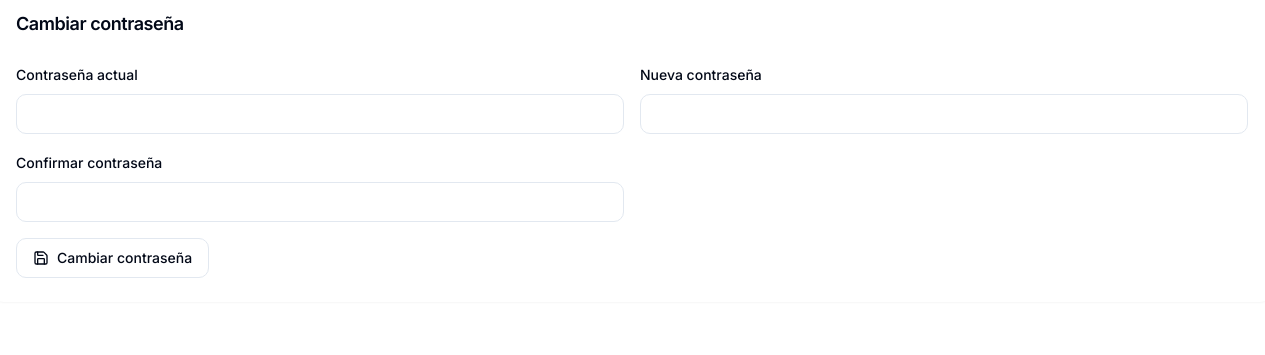
CambiarContrasena › cambia la contraseña y vacía el formulario
Type "Vieja2026!" into the password field labelled "Contraseña actual".
click(320, 114); type("Vieja2026!")  # box [16,94,624,134]
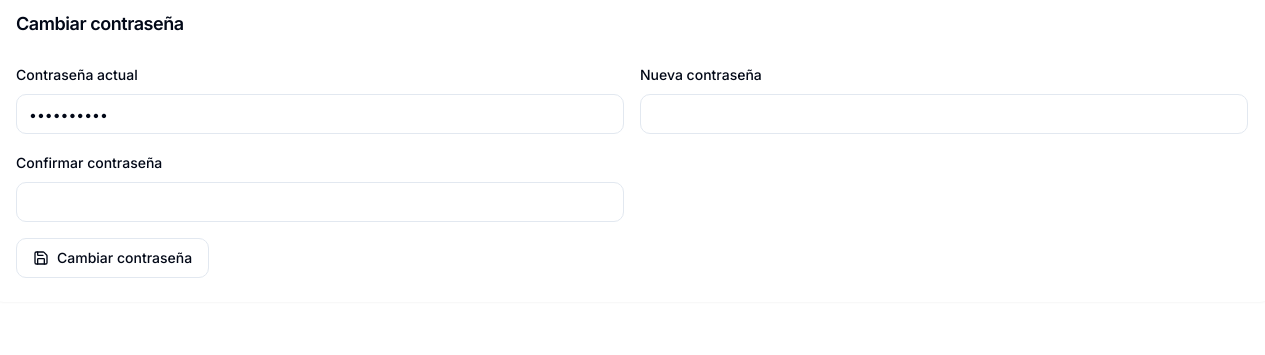
Type "Nueva2026!" into the password field labelled "Nueva contraseña".
click(944, 114); type("Nueva2026!")  # box [640,94,1248,134]
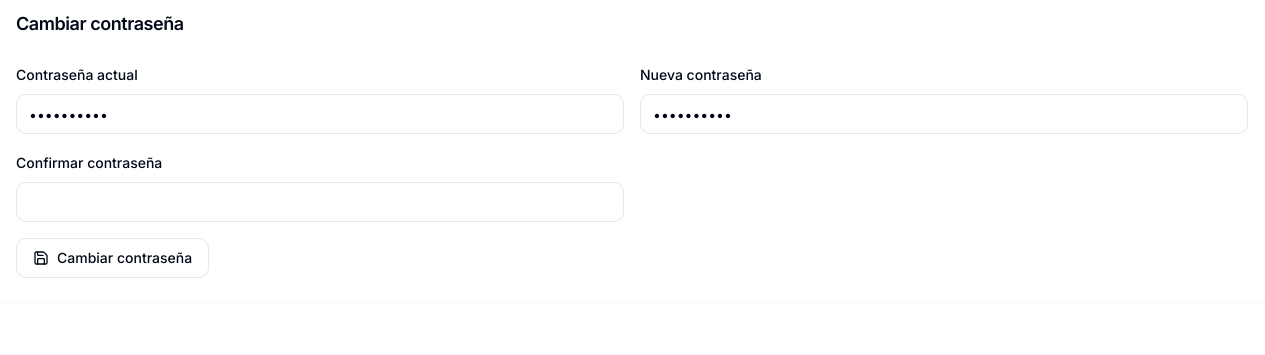
Type "Nueva2026!" into the password field labelled "Confirmar contraseña".
click(320, 202); type("Nueva2026!")  # box [16,182,624,222]
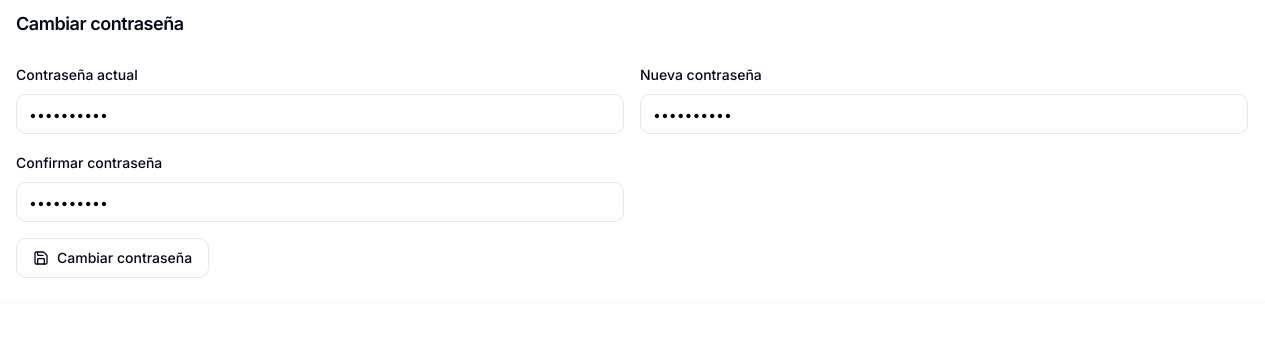
Click the button "Cambiar contraseña".
click(113, 258)  # box [16,238,209,278]
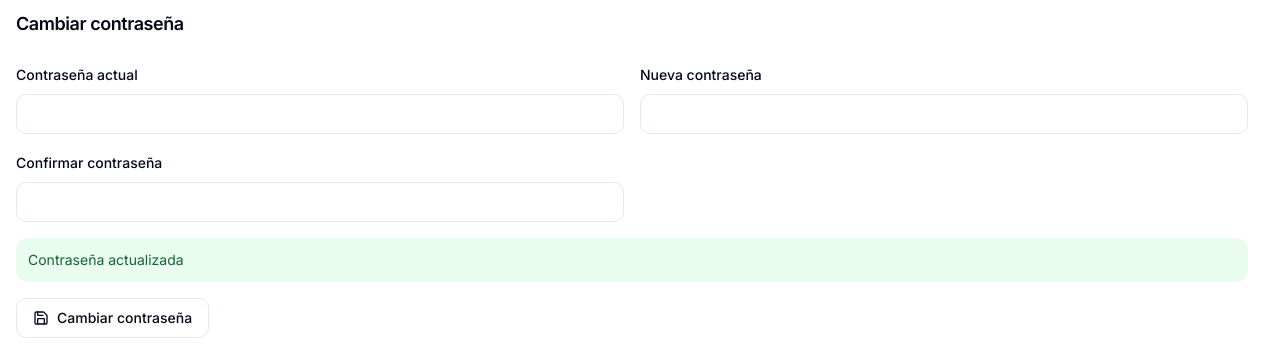
Check: the message reads "Contraseña actualizada", box [28,251,184,268]
Check: the password field labelled "Contraseña actual" is empty, box [16,94,624,134]
